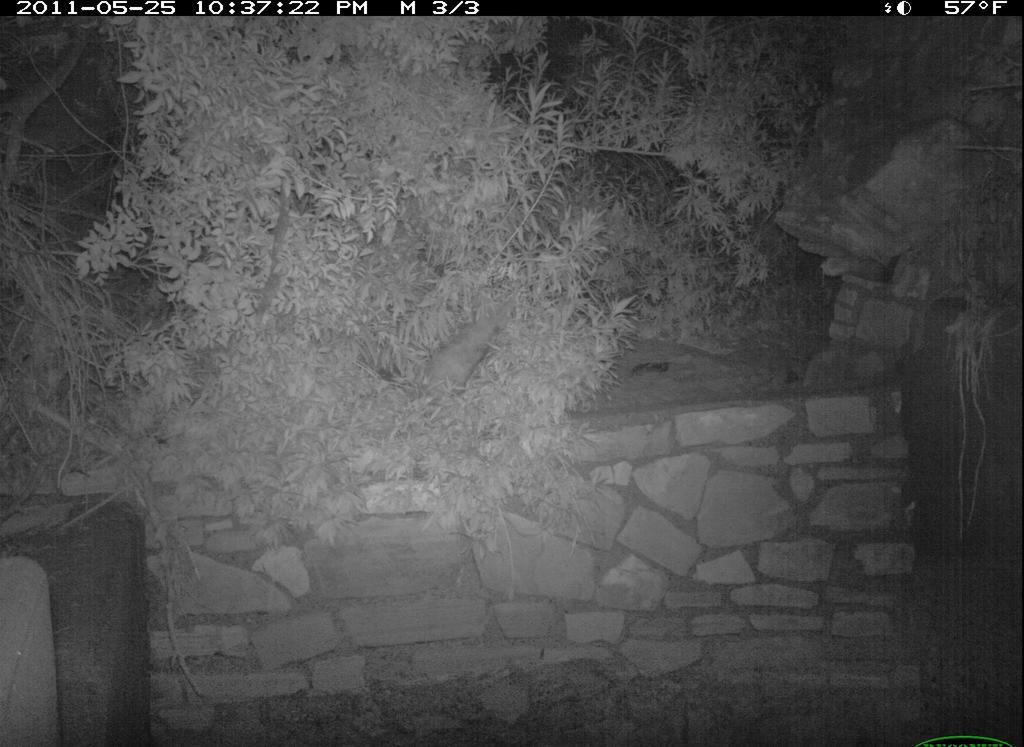opossum: (409, 306, 514, 408)
